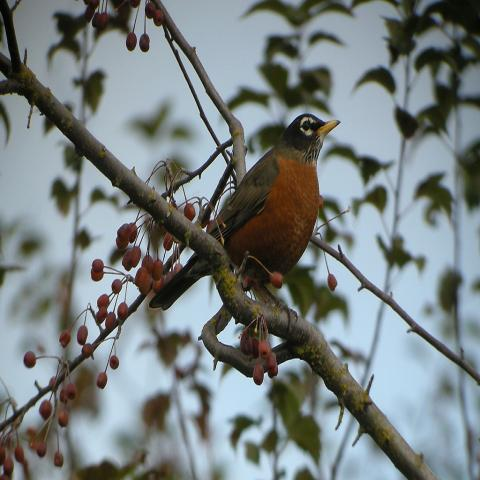bird: (147, 110, 340, 312)
